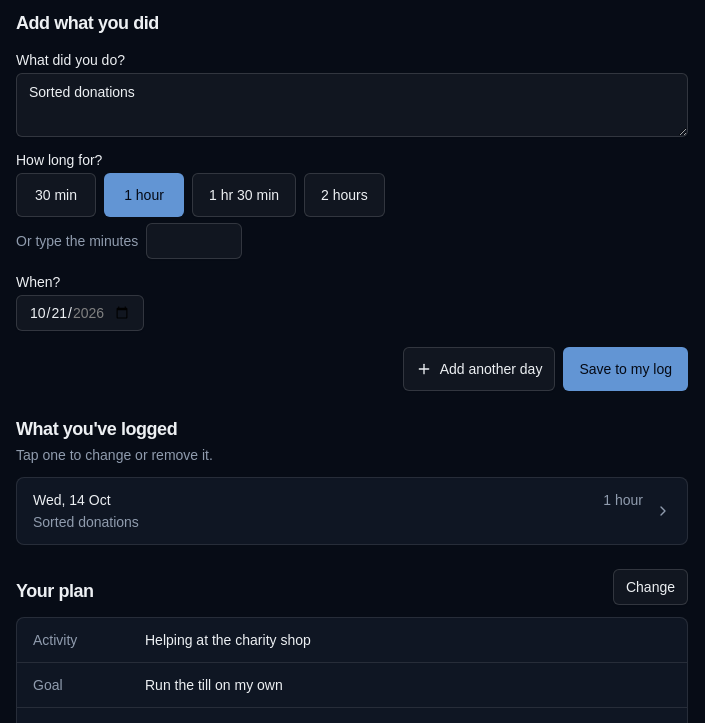
Test: logging a week › an extra day can be added, and removed again
(page scrolled)
Click the button "Add another day". click: {"x": 479, "y": 369}
box: [403,347,555,391]
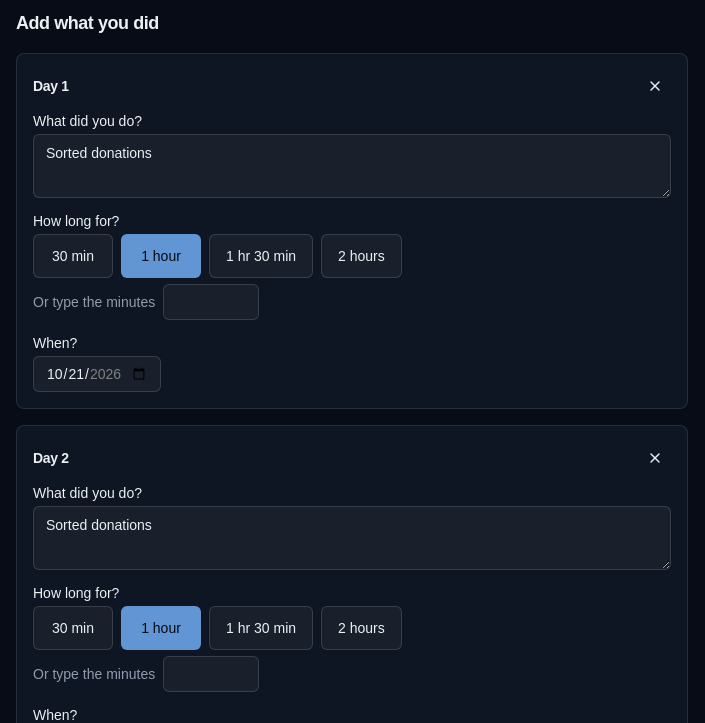
Click the button named "Remove day 2". click: {"x": 655, "y": 458}
box: [639,442,671,474]
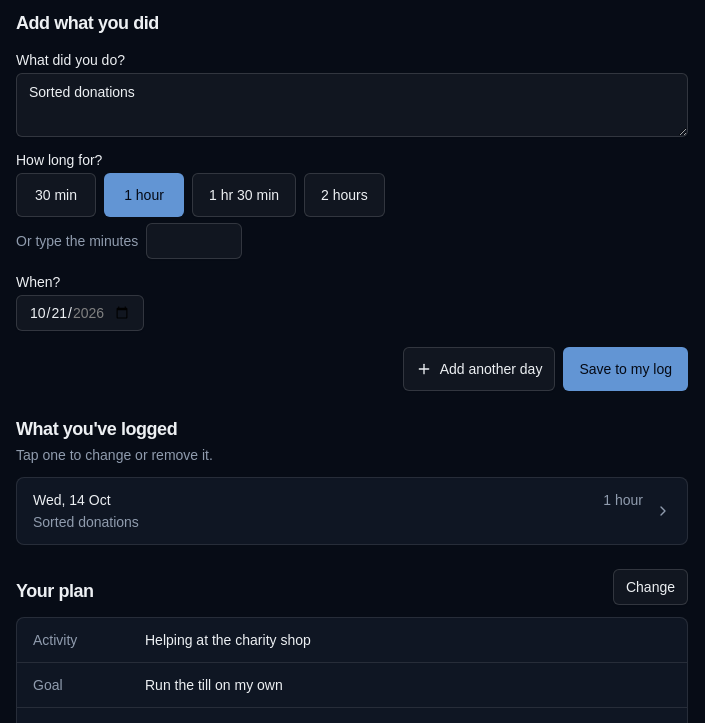
Expected: the heading "Day 2" is gone
Expected: the button "Save to my log" is shown, [563,347,688,391]
